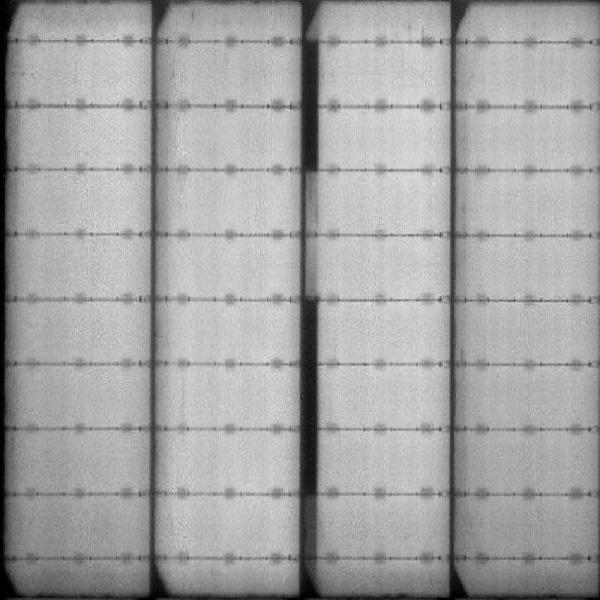black_border: (294, 290, 321, 565), (294, 39, 324, 178)
